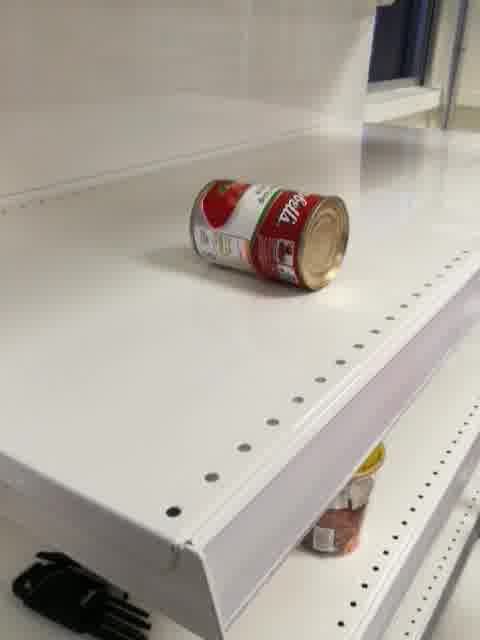tomatosoup: (186, 177, 351, 294)
